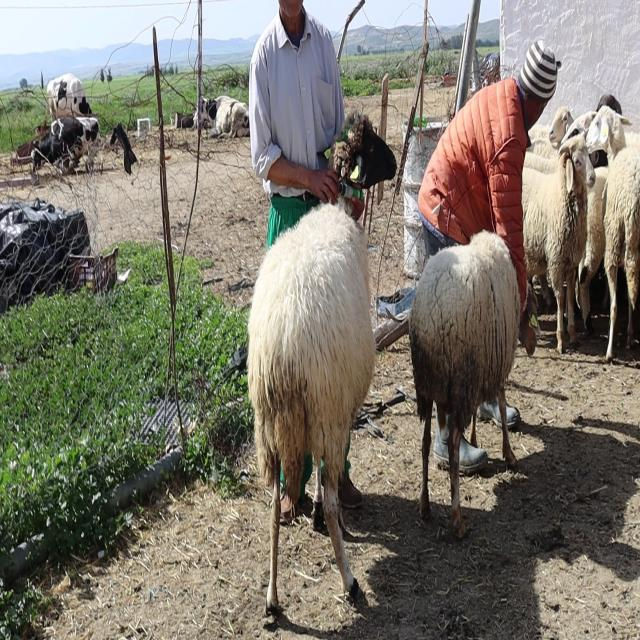Score_5: (247, 204, 375, 613)
